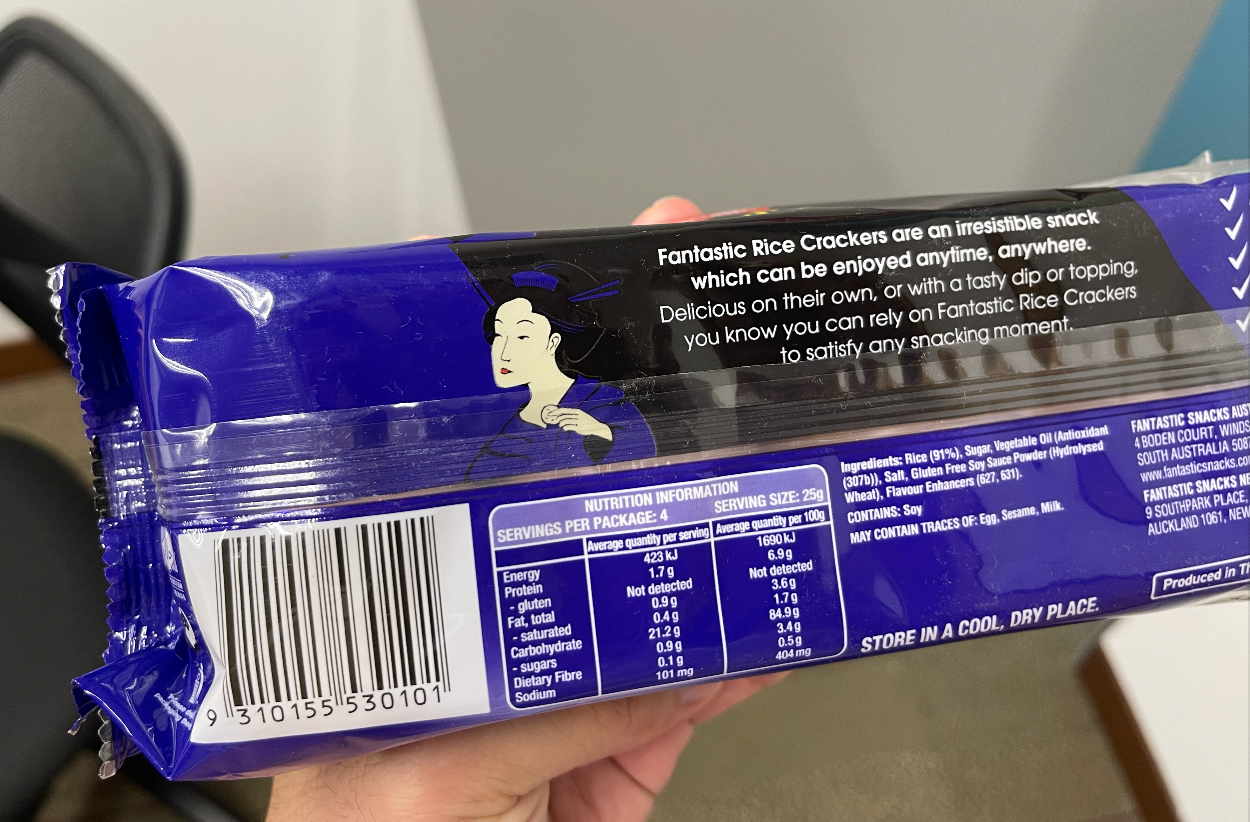crackers_100g-199g: (171, 264, 1183, 667)
